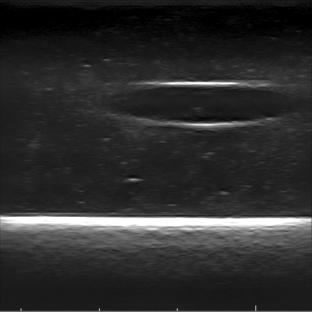vessel: (118, 79, 288, 129)
